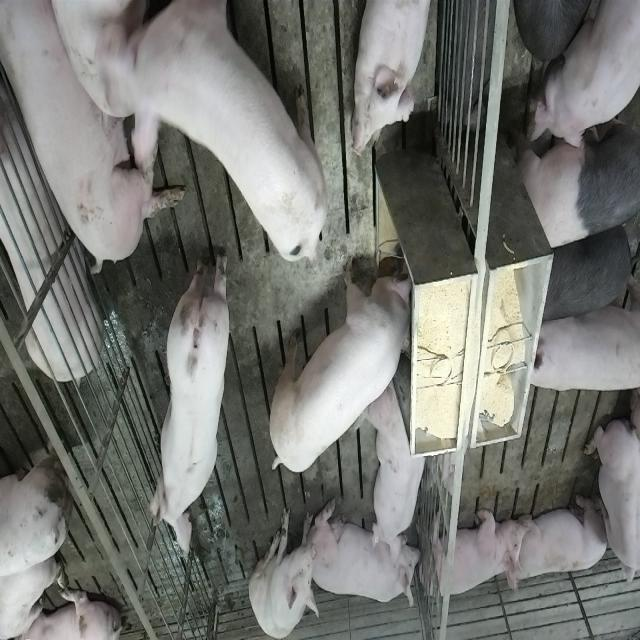Feeding: (273, 250, 421, 475)
Lateral_lying: (3, 6, 187, 278), (0, 47, 102, 383)
Sitting: (249, 504, 319, 638)
Standing: (134, 7, 334, 271), (149, 242, 232, 558), (516, 91, 638, 255), (523, 0, 637, 154), (521, 287, 637, 394), (538, 221, 638, 327)
Sternal_lying: (351, 0, 433, 156), (366, 378, 431, 556), (314, 506, 422, 613), (584, 402, 638, 596), (426, 505, 524, 604), (512, 492, 610, 588)
